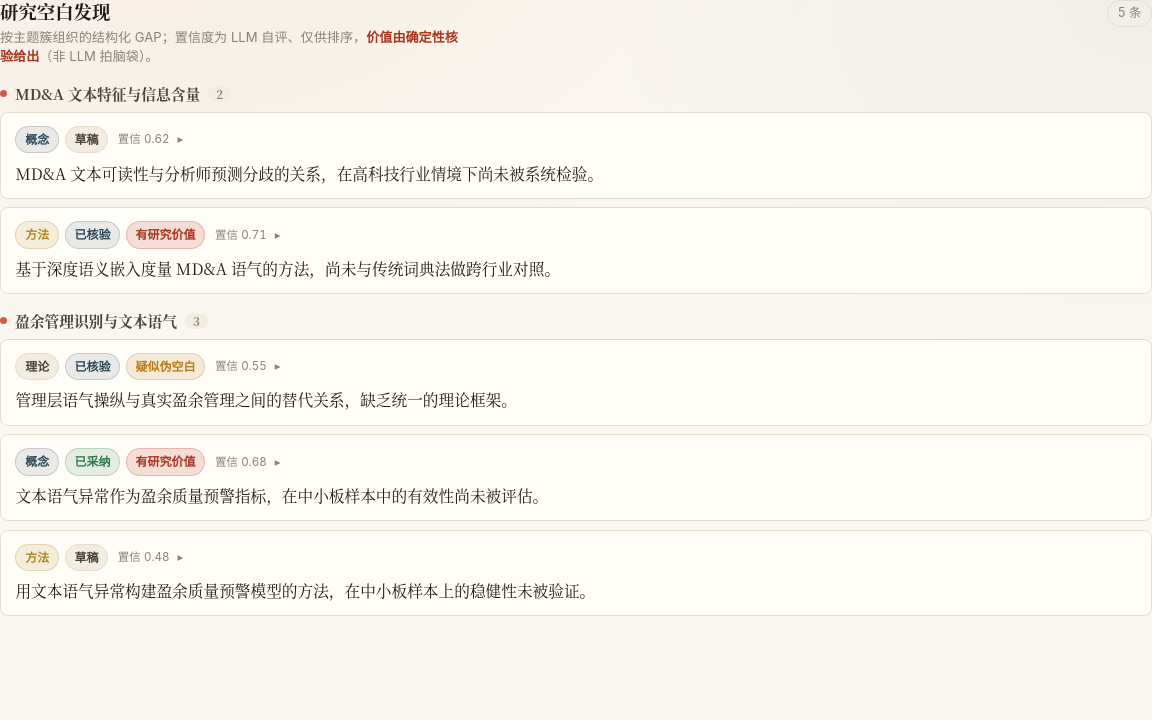
Test: GapPanel › 展开卡片 → 见支撑引文 + Paper 跳转 href + 源坐标锚点 + 反证
The width and height of the screenshot is (1152, 720).
Expected: the text "现有研究多依赖 LM 词典统计语气。" is not shown
# 点击该 GAP 的卡头（method/verified 那条）
What coordinates should you click on to do the following:
click the button "基于深度语义嵌入度量 MD&A 语气的方法，尚未与传统词典法做跨行业对照。"
I would click on:
 (37, 235)
Its box is top-left (1, 208), bottom-right (1151, 293).
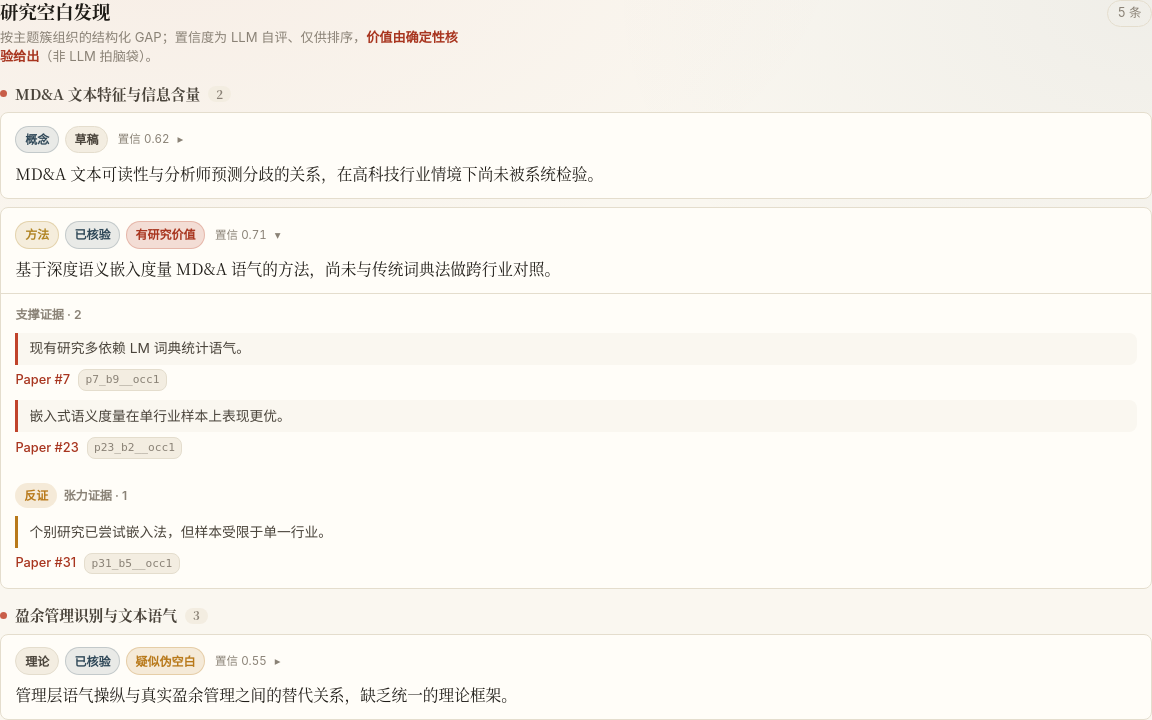
Result: the text "现有研究多依赖 LM 词典统计语气。" is shown at top-left (15, 333), bottom-right (1137, 364)
Result: the text "p7_b9__occ1" is shown at top-left (78, 369), bottom-right (167, 391)
Result: the text "反证" is shown at top-left (15, 482), bottom-right (57, 508)
